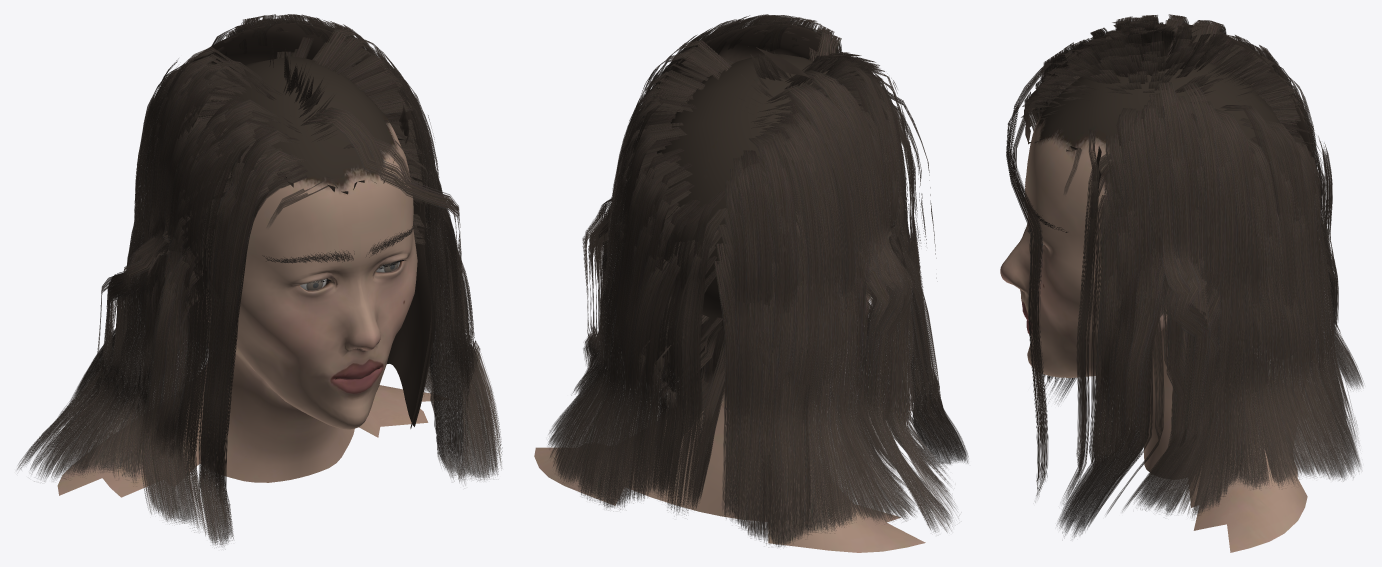
Rendered from head.glb.
The picture shows the model from 3 angles, left to right: view 1: azimuth 30°, elevation 25°; view 2: azimuth 150°, elevation 25°; view 3: azimuth 270°, elevation 25°; orthographic projection. The views are drawn at different scales.
Parts seen in each view (by area): view 1: hair-cards, yuan, hair-shell, brows; view 2: hair-cards, yuan, hair-shell; view 3: hair-cards, yuan, hair-shell.
Boxes of the visible parts, box(x1,y1,x2,y2) form: hair-cards: box(17, 14, 502, 547); yuan: box(57, 56, 449, 497); hair-shell: box(163, 23, 432, 428); brows: box(262, 223, 413, 263); hair-cards: box(548, 14, 968, 546); yuan: box(534, 54, 925, 552); hair-shell: box(637, 24, 884, 340); hair-cards: box(1006, 14, 1363, 537); yuan: box(1000, 56, 1307, 552); hair-shell: box(1024, 24, 1312, 305).
Size of the model in its own units: 0.321 by 0.3234 by 0.2428.
11 materials, 4 textured.
